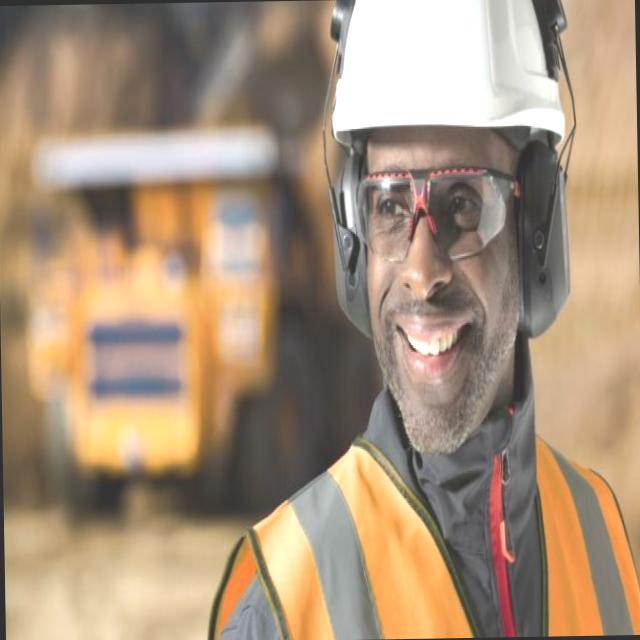goggles: (333, 162, 538, 260)
helmet: (314, 0, 576, 152)
vest: (197, 395, 640, 640)
